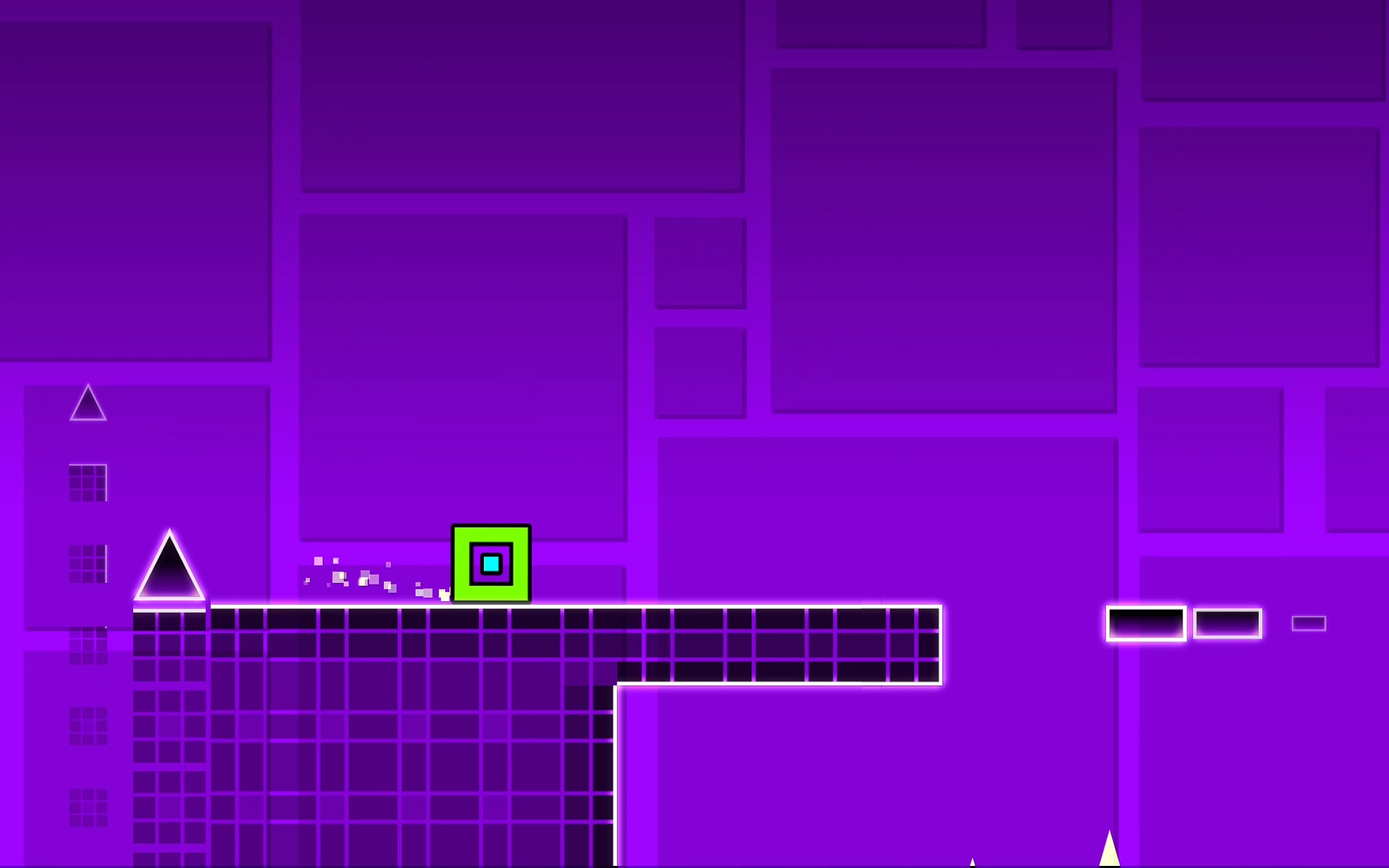Block2: (127, 607, 629, 867), (618, 607, 950, 684)
Block3: (1102, 608, 1266, 641), (1105, 606, 1187, 642), (1183, 609, 1265, 640)
Player: (453, 527, 533, 605)
Spike: (138, 531, 208, 602)
